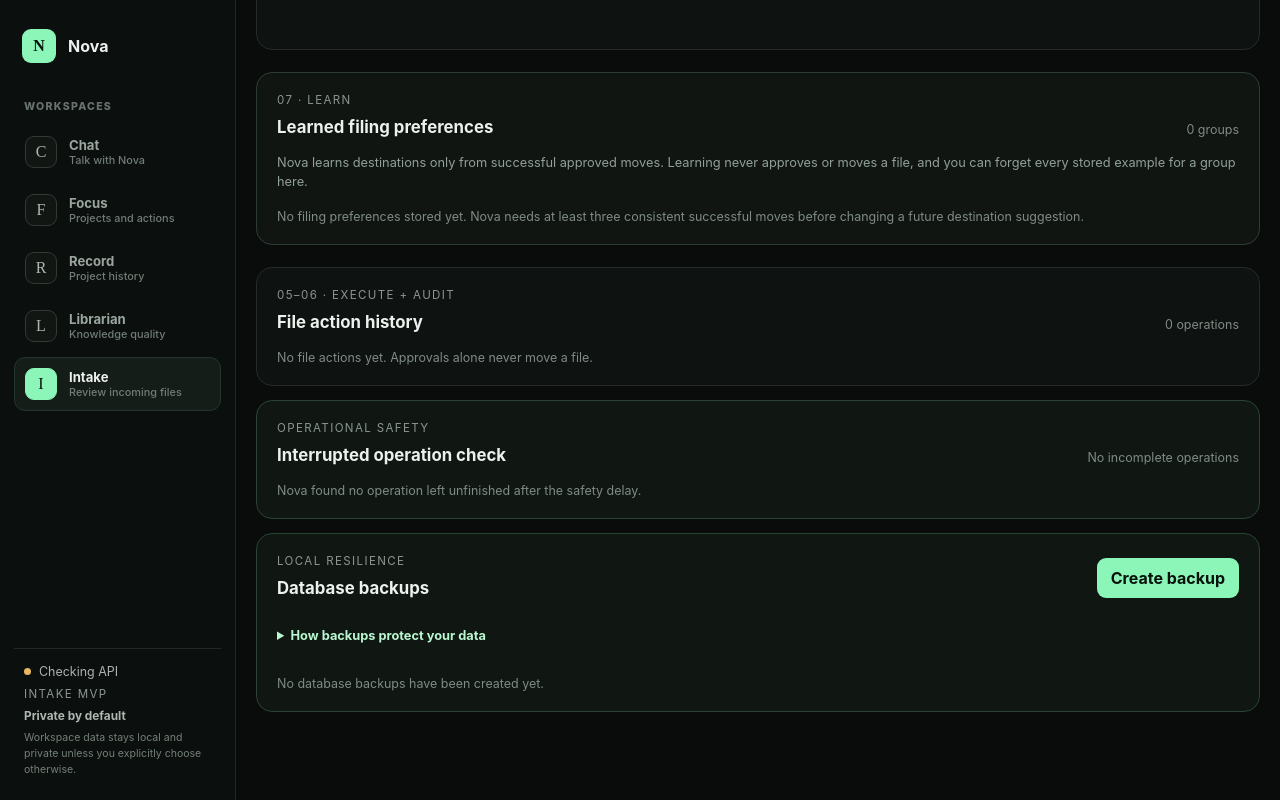
App › creates and exposes a verified local database backup
(page scrolled)
What coordinates should you click on to do the following:
click the button "Create backup"
I would click on:
 (1168, 578)
Its box is [1097,558,1239,598].
(page scrolled)
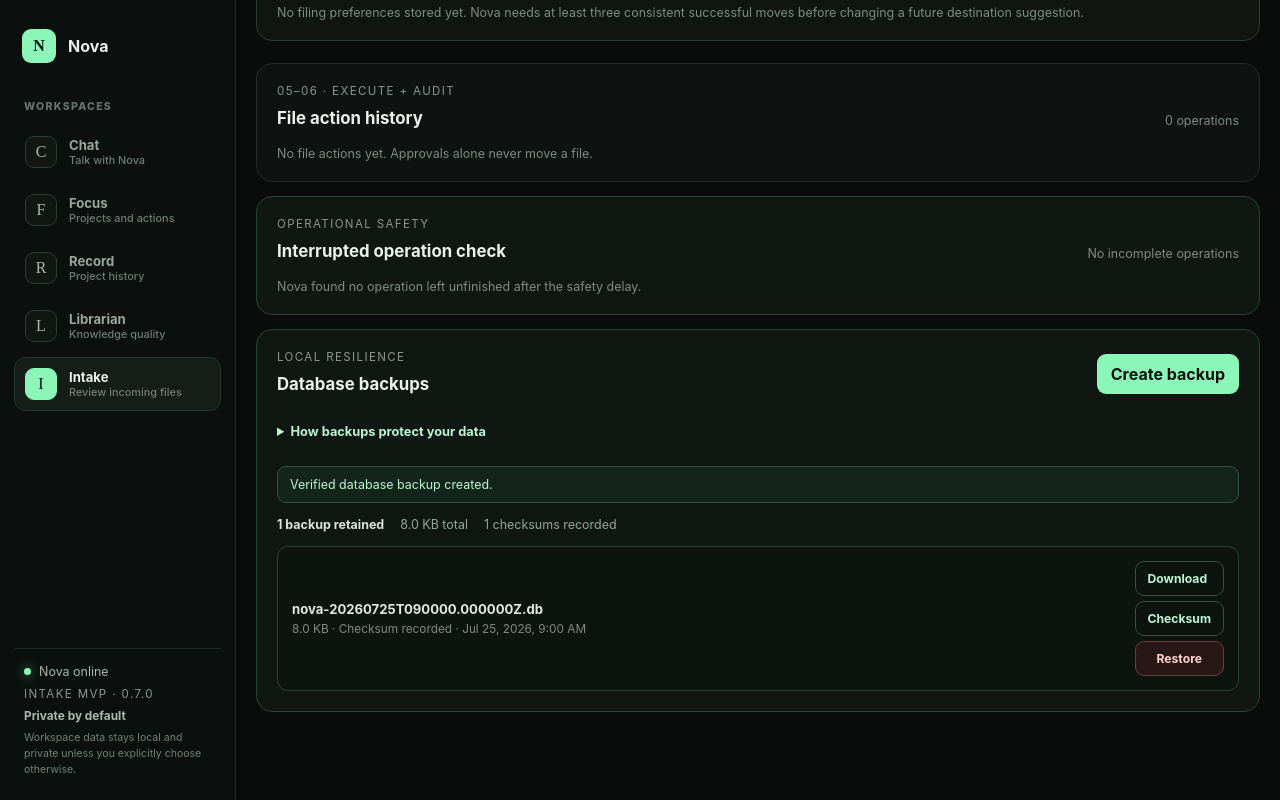
Now the text "nova-20260725T090000.000000Z.db" is shown, box [292,601,586,617]
Now the text "8.0 KB · Checksum recorded · Jul 25, 2026, 9:00 AM" is shown, box [292,622,586,636]
